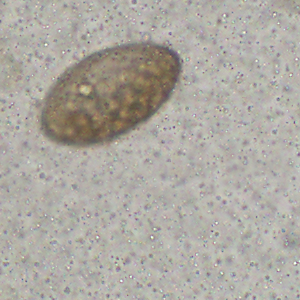Fasciola_hepatica_egg: (37, 40, 183, 146)
